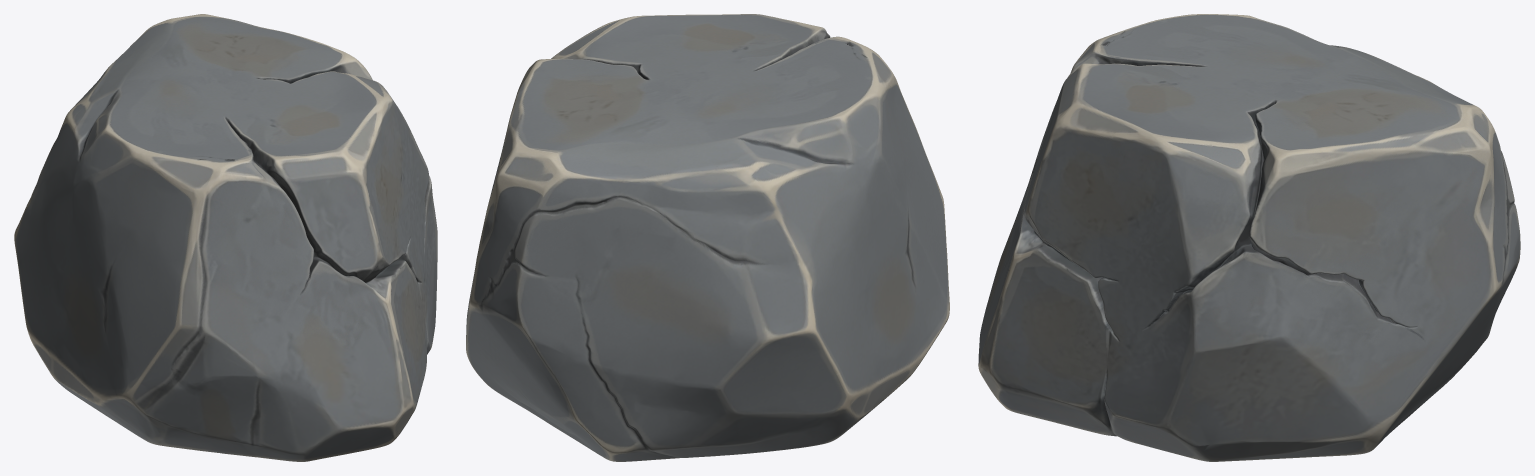
File: Meshy_AI_Stylized_fantasy_survival_RPG_20261105_texture.fbx
3 renders of one model, left to right at view 1: azimuth 30°, elevation 25°; view 2: azimuth 150°, elevation 25°; view 3: azimuth 270°, elevation 25°, orthographic. The views are drawn at different scales.
Parts seen in each view (by area): view 1: Mesh_0; view 2: Mesh_0; view 3: Mesh_0.
Part boxes in pixels (x1,y1,x2,y2): Mesh_0: (14, 14, 437, 461); Mesh_0: (466, 14, 949, 461); Mesh_0: (978, 14, 1520, 461).
Size of the model in its own units: 155 by 118 by 190.
Materials: 1 (1 with a texture image).
